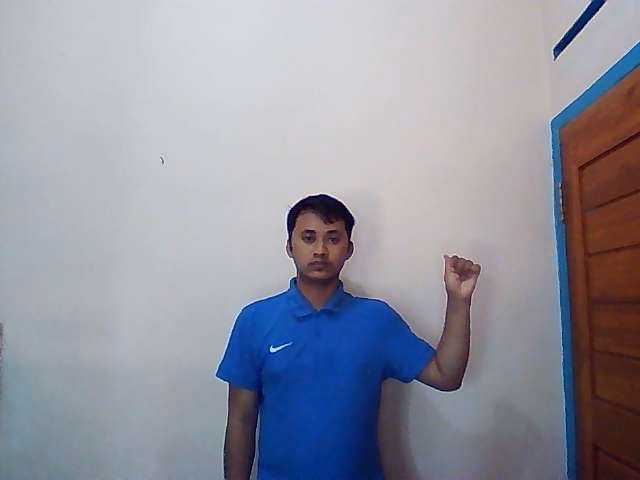A: (443, 254, 482, 298)
